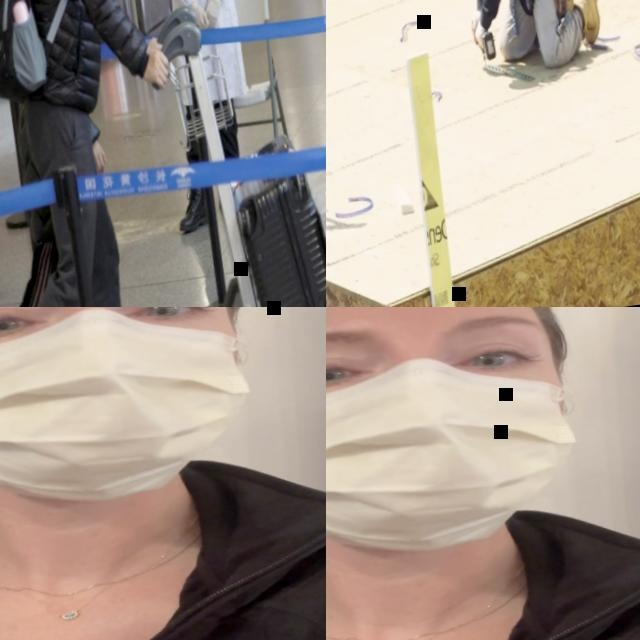Mask: (326, 352, 591, 573), (0, 307, 265, 523)
NO-Hardhat: (326, 307, 555, 350)
NO-Safety Vest: (0, 473, 326, 640), (326, 523, 640, 640), (6, 0, 114, 101)
Person: (0, 307, 326, 640), (326, 307, 640, 640), (0, 0, 217, 307), (0, 0, 167, 307), (119, 0, 277, 238), (442, 0, 609, 77)
